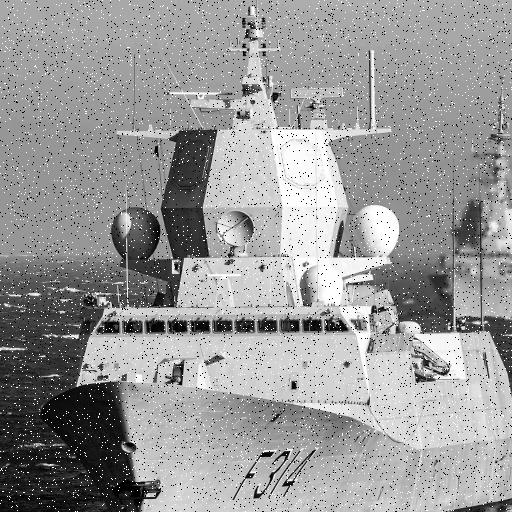Fragata: (32, 1, 512, 512), (432, 75, 512, 332)
